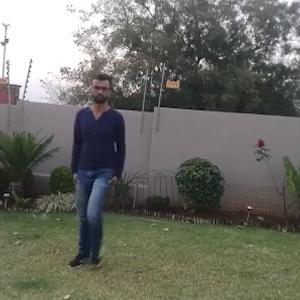follow: (77, 67, 148, 274)
